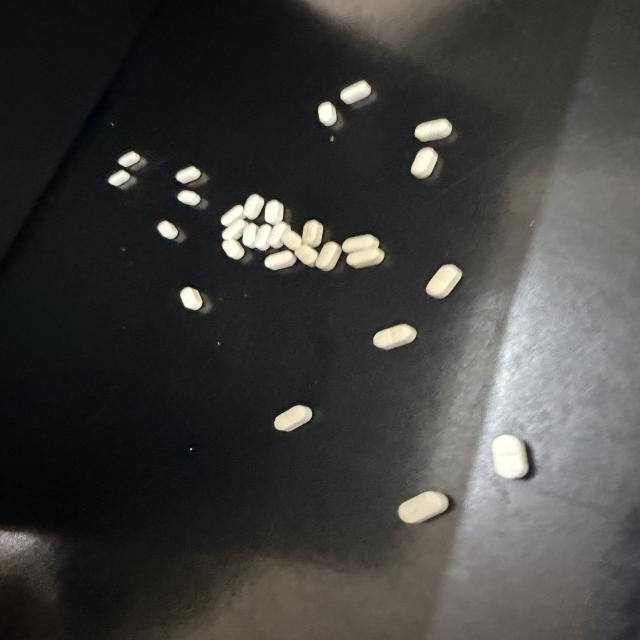pill: (398, 491, 448, 523), (492, 435, 528, 478), (426, 265, 462, 298), (373, 324, 416, 349), (275, 405, 312, 431), (410, 147, 438, 179), (415, 119, 452, 141), (316, 242, 342, 271), (340, 80, 371, 104), (347, 248, 384, 268), (342, 234, 379, 253), (265, 251, 296, 270), (302, 220, 323, 247), (269, 222, 290, 248), (295, 244, 318, 267), (180, 287, 202, 310), (222, 219, 246, 240), (244, 194, 264, 219), (221, 205, 244, 226), (265, 200, 284, 225), (318, 102, 337, 126), (176, 166, 201, 183), (222, 240, 244, 259), (255, 224, 271, 250), (242, 223, 258, 248), (157, 221, 179, 239), (177, 190, 201, 206), (283, 230, 302, 250), (108, 170, 131, 186), (118, 151, 141, 167)
